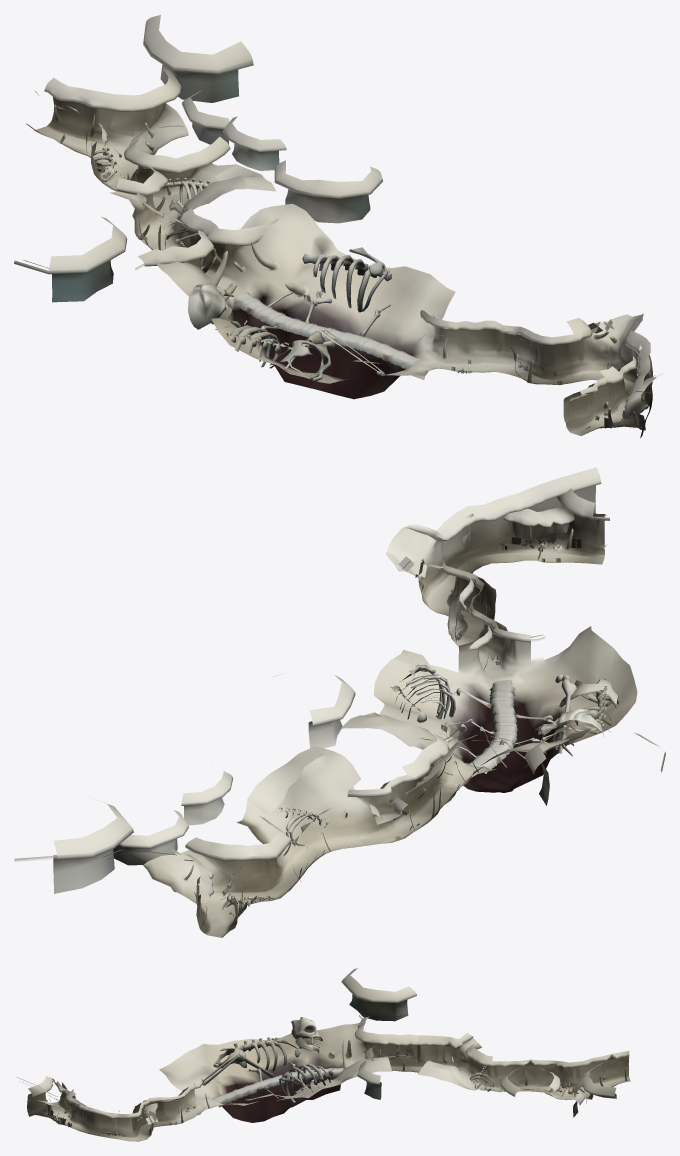
The model's file is 02Overpass.gltf.
3 views of the same model, one above another, from view 1: azimuth 30°, elevation 25°; view 2: azimuth 150°, elevation 25°; view 3: azimuth 270°, elevation 25° (orthographic). The views are drawn at different scales.
Parts seen in each view (by area): view 1: stg040_o04_Mesh_0004, stg040_o04_Mesh_0003, stg040_o04_Mesh_0002, stg040_a04_Mesh_0001, stg040_a04_Mesh_0003, stg040_o05_Mesh_0003, stg040_o04_Mesh_0000, stg040_o05_Mesh_0009, stg040_o05_Mesh_0007, stg040_o04_Mesh_0001; view 2: stg040_o04_Mesh_0004, stg040_o04_Mesh_0003, stg040_a04_Mesh_0001, stg040_o04_Mesh_0002, stg040_a04_Mesh_0003, stg040_o04_Mesh_0000, stg040_o05_Mesh_0003, stg040_o05_Mesh_0009, stg040_o05_Mesh_0007, stg040_o04_Mesh_0001; view 3: stg040_o04_Mesh_0004, stg040_o04_Mesh_0003, stg040_o04_Mesh_0002, stg040_a04_Mesh_0001, stg040_a04_Mesh_0003, stg040_o05_Mesh_0003, stg040_o04_Mesh_0000, stg040_o05_Mesh_0007, stg040_o05_Mesh_0009, stg040_o04_Mesh_0001.
Part boxes in pixels (x1=…): stg040_o04_Mesh_0004: x1=35, y1=103, x2=649, y2=431; stg040_o04_Mesh_0003: x1=34, y1=15, x2=650, y2=435; stg040_o04_Mesh_0002: x1=24, y1=64, x2=652, y2=438; stg040_a04_Mesh_0001: x1=14, y1=21, x2=659, y2=432; stg040_a04_Mesh_0003: x1=27, y1=103, x2=650, y2=429; stg040_o05_Mesh_0003: x1=95, y1=147, x2=392, y2=381; stg040_o04_Mesh_0000: x1=14, y1=24, x2=656, y2=416; stg040_o05_Mesh_0009: x1=234, y1=292, x2=417, y2=368; stg040_o05_Mesh_0007: x1=91, y1=149, x2=385, y2=367; stg040_o04_Mesh_0001: x1=54, y1=104, x2=617, y2=424; stg040_o04_Mesh_0004: x1=143, y1=528, x2=635, y2=934; stg040_o04_Mesh_0003: x1=53, y1=467, x2=659, y2=937; stg040_a04_Mesh_0001: x1=14, y1=480, x2=665, y2=937; stg040_o04_Mesh_0002: x1=53, y1=485, x2=604, y2=930; stg040_a04_Mesh_0003: x1=143, y1=523, x2=606, y2=930; stg040_o04_Mesh_0000: x1=57, y1=481, x2=665, y2=899; stg040_o05_Mesh_0003: x1=227, y1=664, x2=619, y2=904; stg040_o05_Mesh_0009: x1=468, y1=680, x2=517, y2=773; stg040_o05_Mesh_0007: x1=222, y1=669, x2=611, y2=909; stg040_o04_Mesh_0001: x1=184, y1=526, x2=573, y2=924; stg040_o04_Mesh_0004: x1=28, y1=1023, x2=628, y2=1136; stg040_o04_Mesh_0003: x1=16, y1=968, x2=630, y2=1141; stg040_o04_Mesh_0002: x1=27, y1=994, x2=628, y2=1133; stg040_a04_Mesh_0001: x1=29, y1=980, x2=630, y2=1141; stg040_a04_Mesh_0003: x1=28, y1=1039, x2=628, y2=1136; stg040_o05_Mesh_0003: x1=202, y1=1017, x2=574, y2=1099; stg040_o04_Mesh_0000: x1=19, y1=981, x2=629, y2=1118; stg040_o05_Mesh_0007: x1=248, y1=1041, x2=585, y2=1102; stg040_o05_Mesh_0009: x1=212, y1=1067, x2=341, y2=1107; stg040_o04_Mesh_0001: x1=49, y1=1039, x2=627, y2=1127.
Bounding box in the file's own units: 190 × 56.87 × 381.
